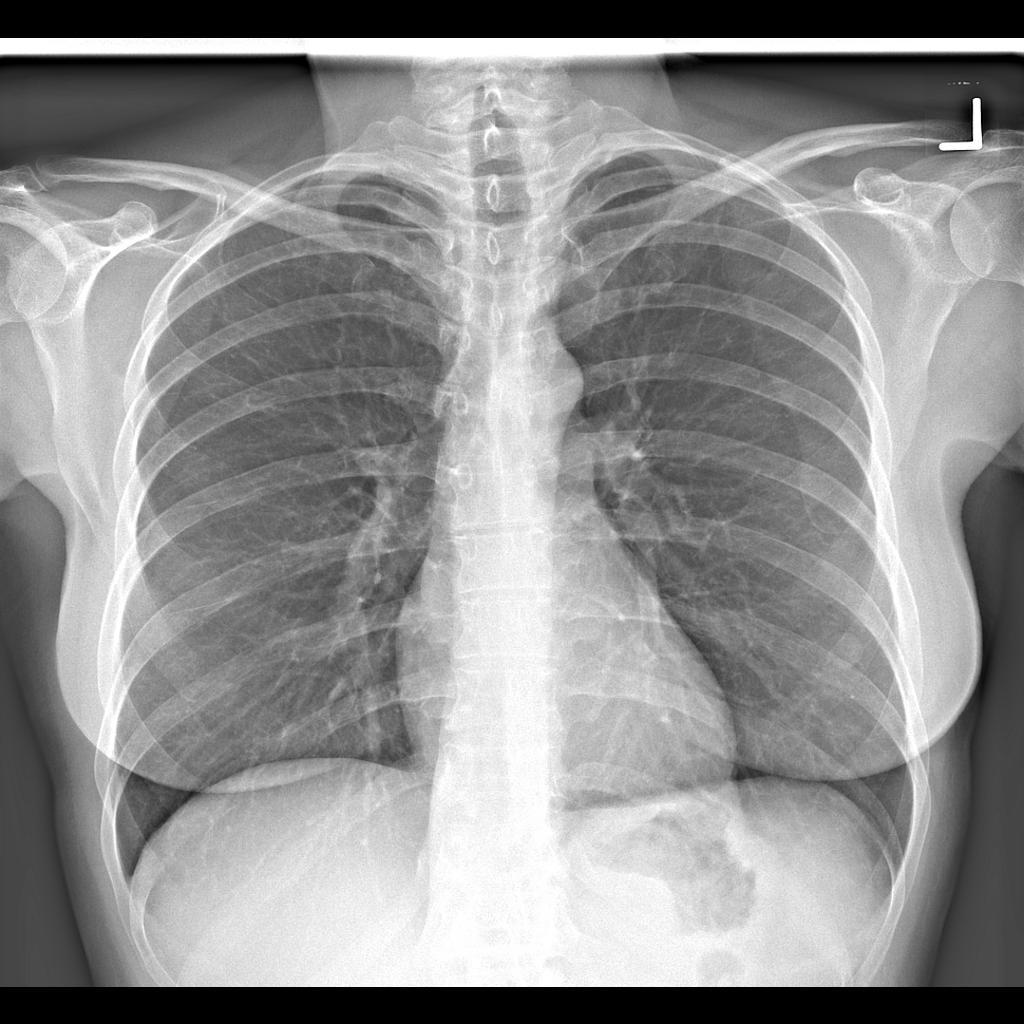Nodule: (827, 623, 877, 686)
